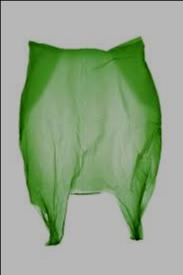Plastic: (16, 31, 171, 249)
